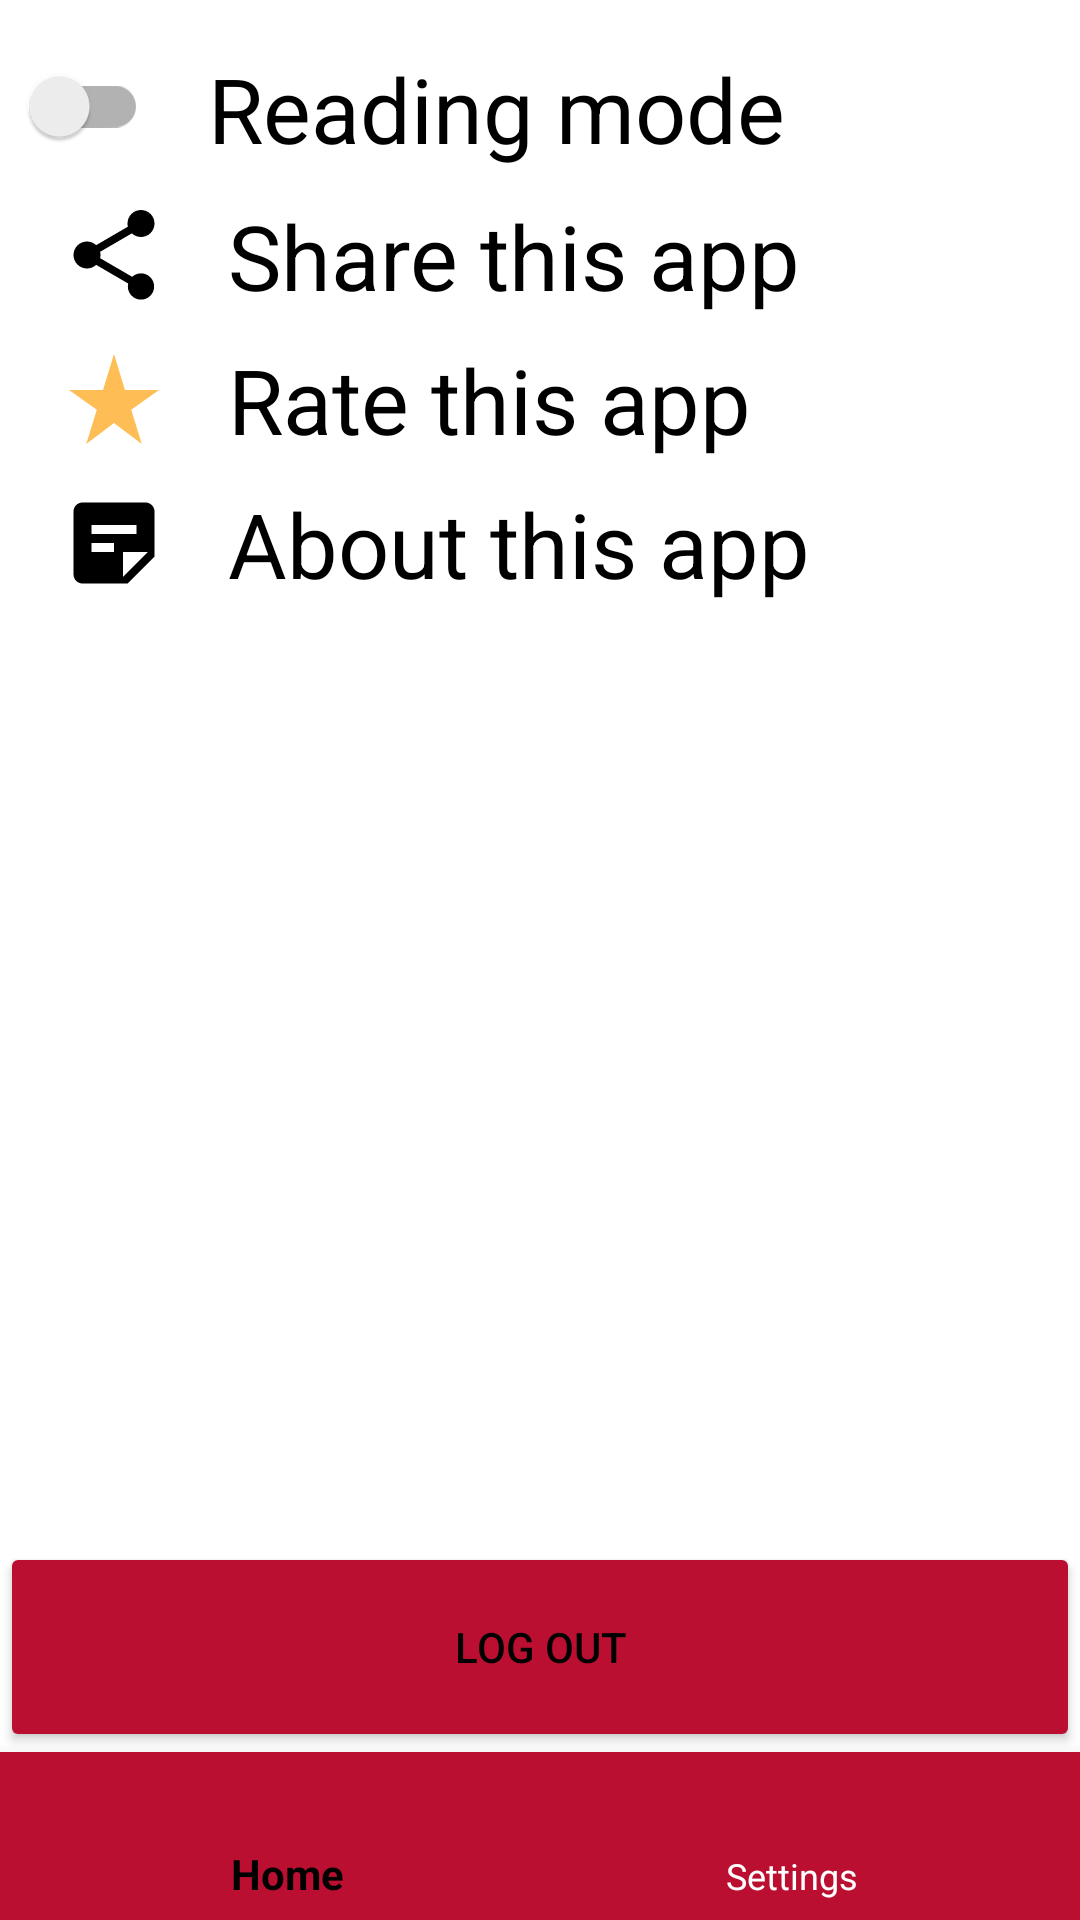

Screen size 1080x1920. Icon name, then its center in pixels as [x,y]:
star rate: [114,399]
